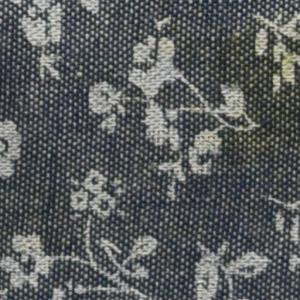Oil Stain: (209, 20, 300, 155)
